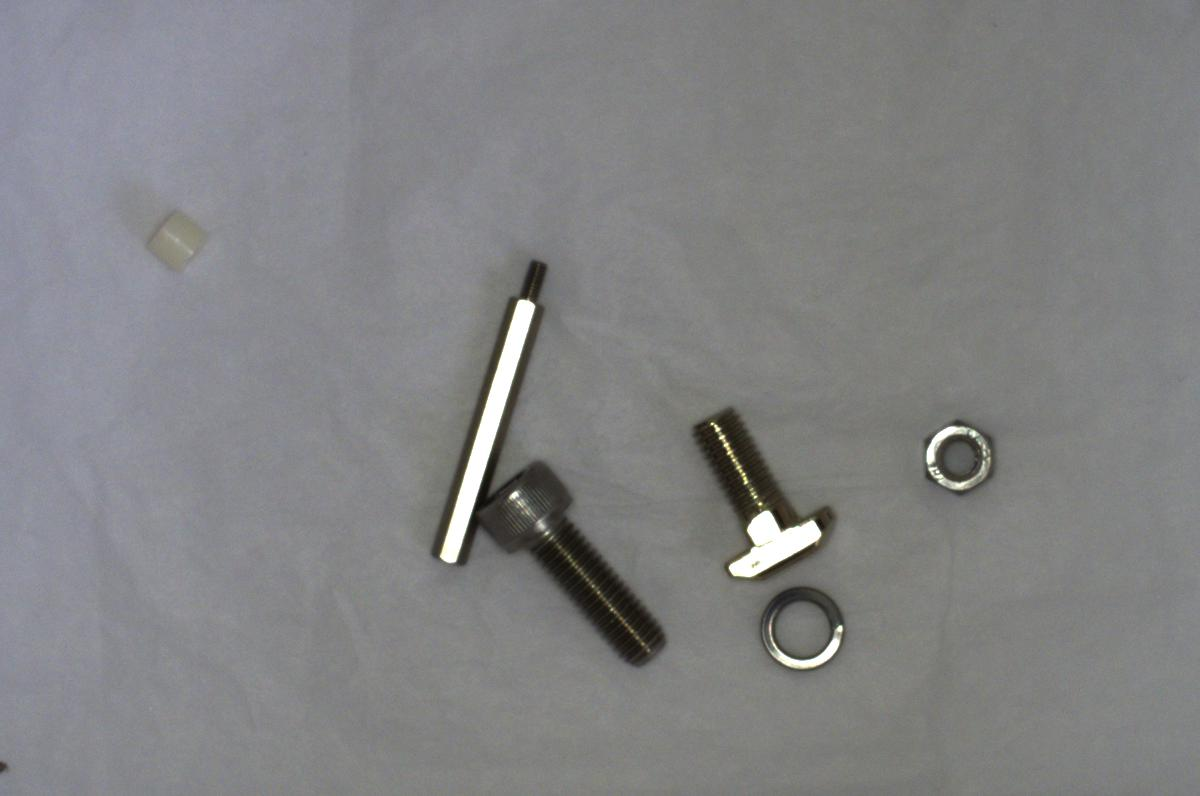Hexagon nut: (910, 410, 995, 496)
Hexagon screw: (475, 461, 668, 670)
Hexagonal steel column: (419, 253, 547, 568)
Plastic cushion pillar: (127, 201, 208, 275)
Spring washer: (751, 585, 855, 672)
T-shaped screw: (685, 401, 841, 582)
